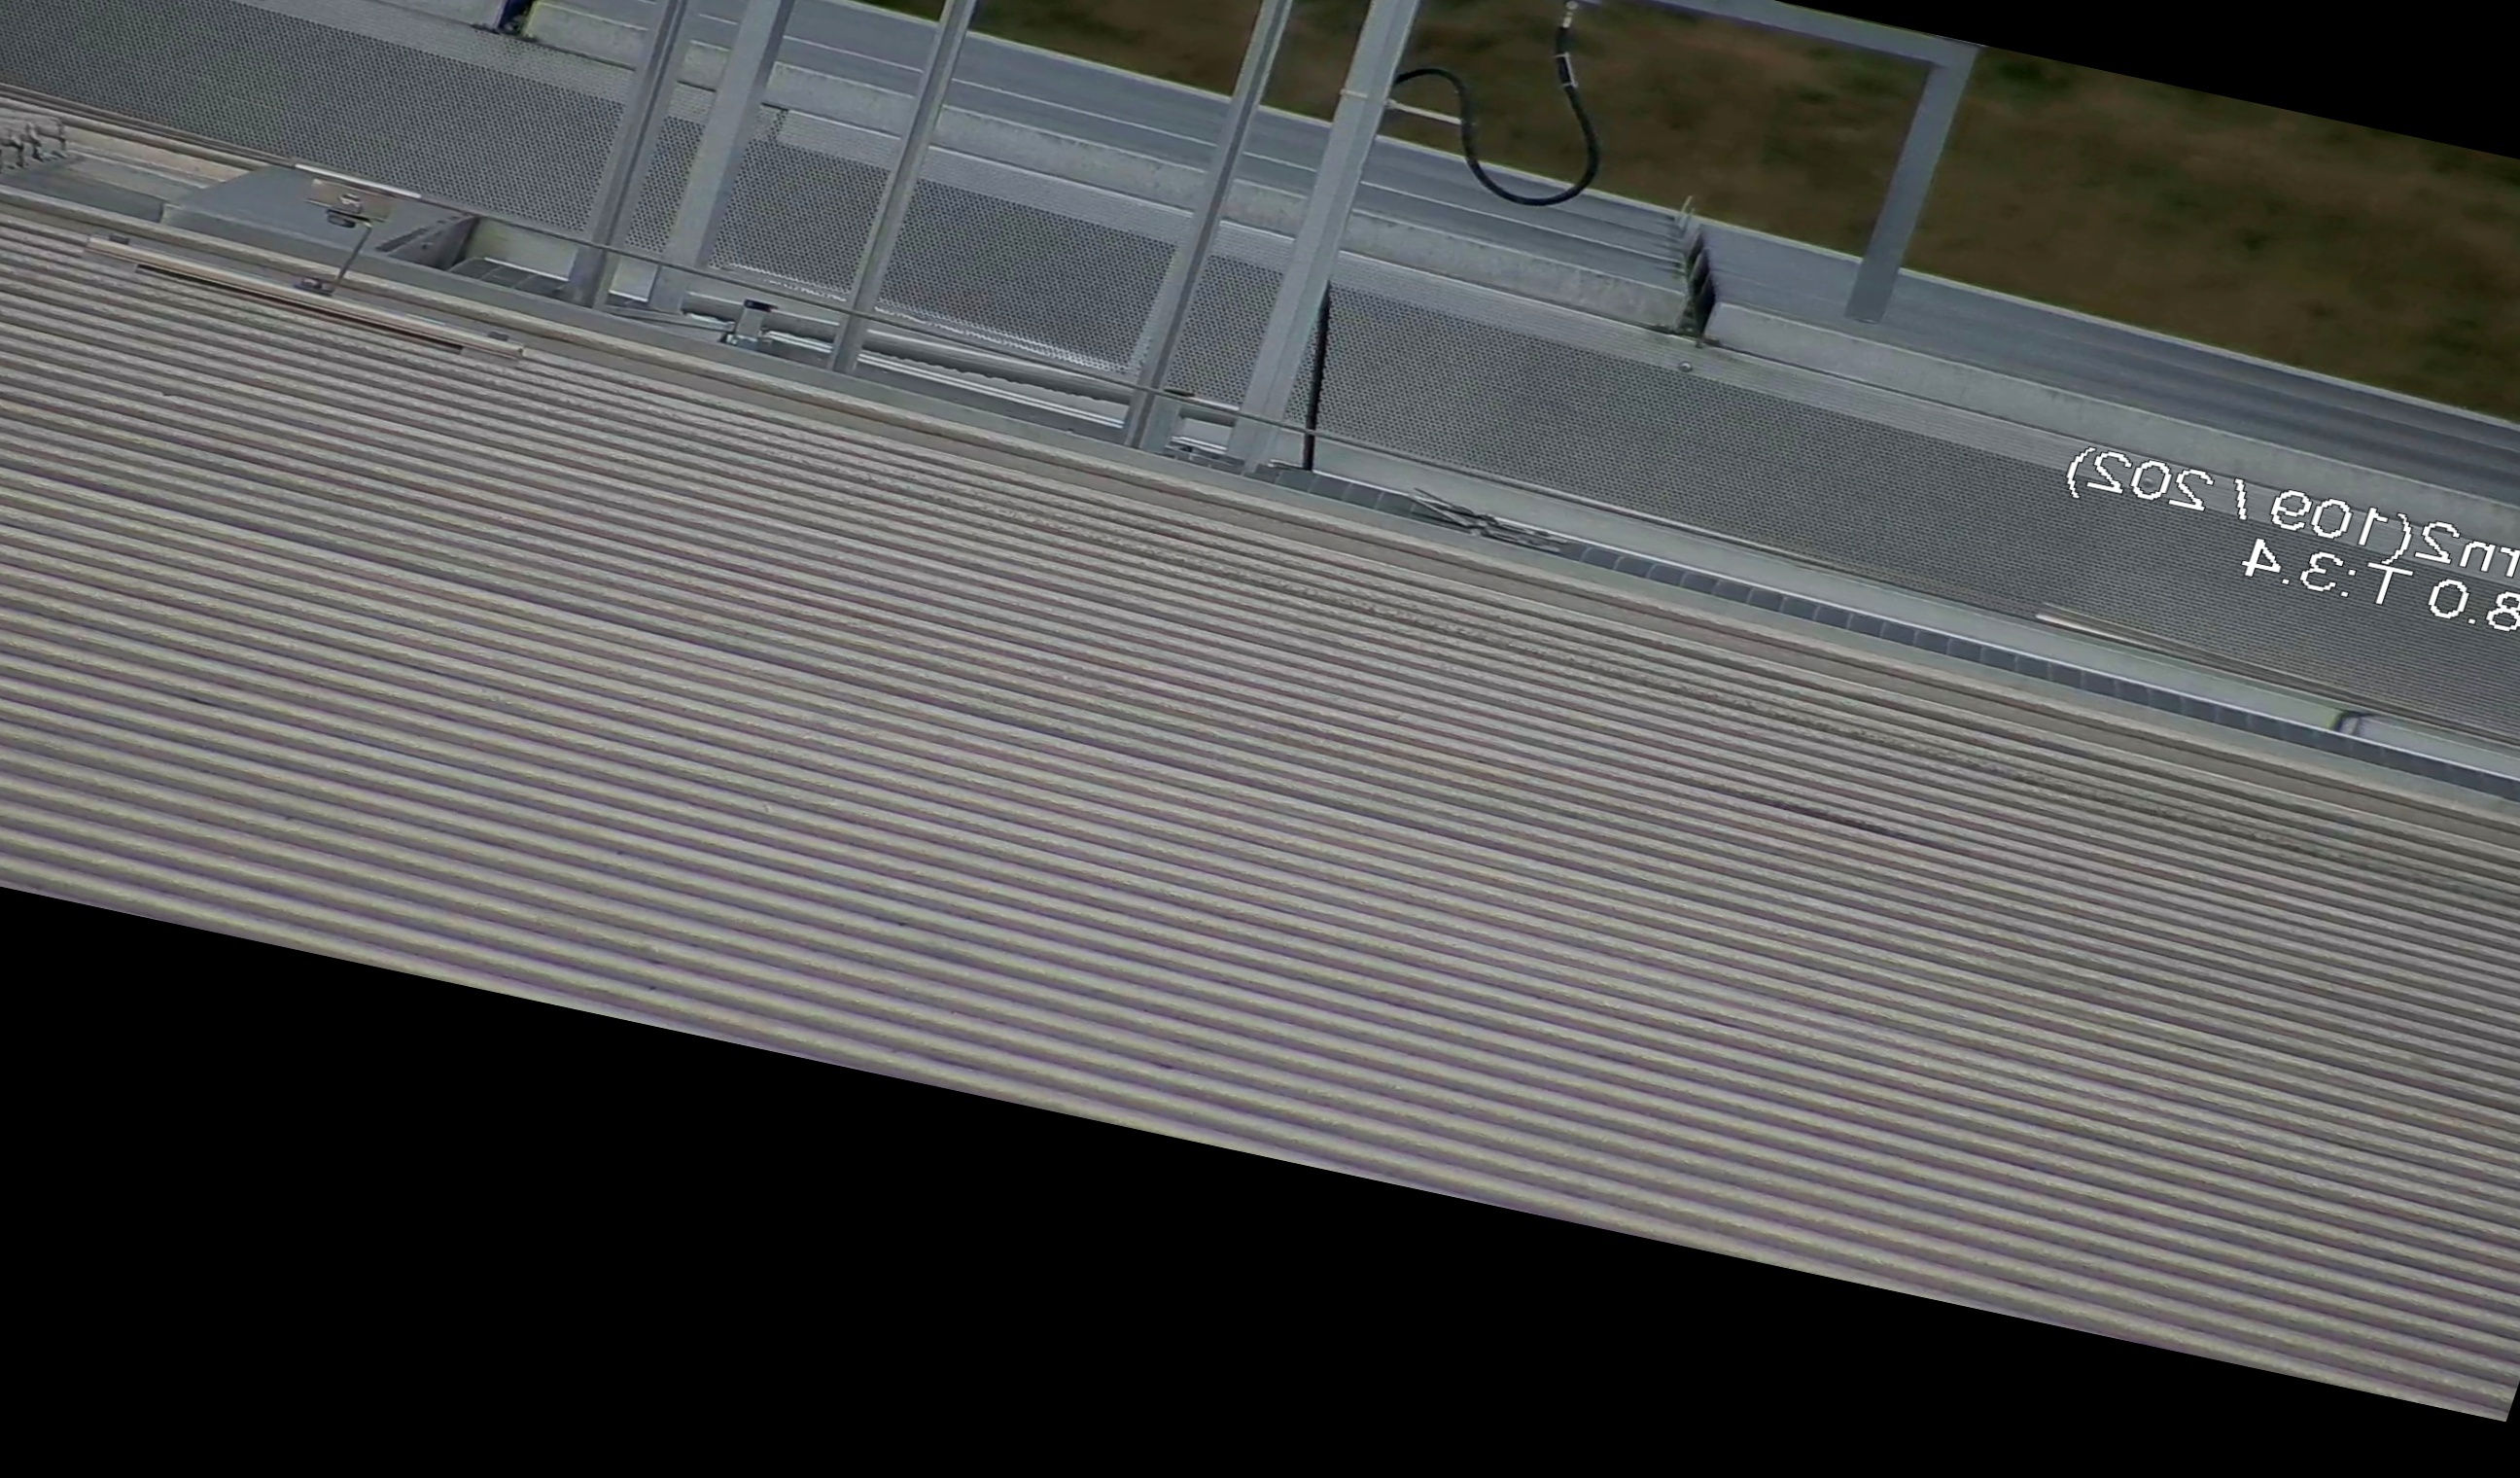Other: (454, 0, 610, 48)
